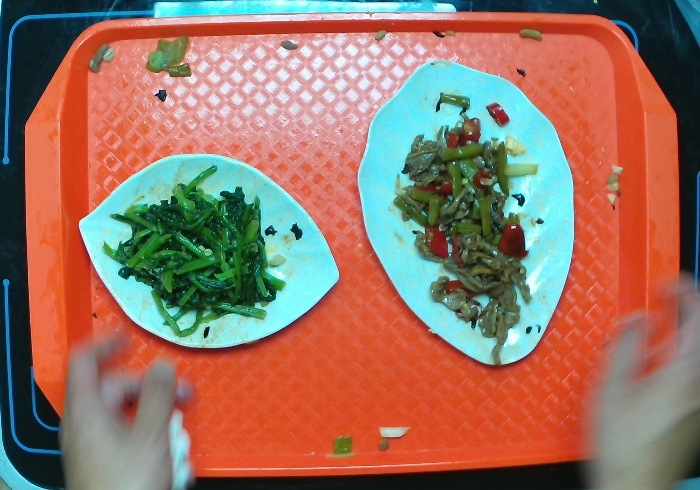RJxy-Bai_Ye_Pan: (357, 60, 575, 367)
RJxy-Da_Du_Pan: (78, 151, 339, 352)
